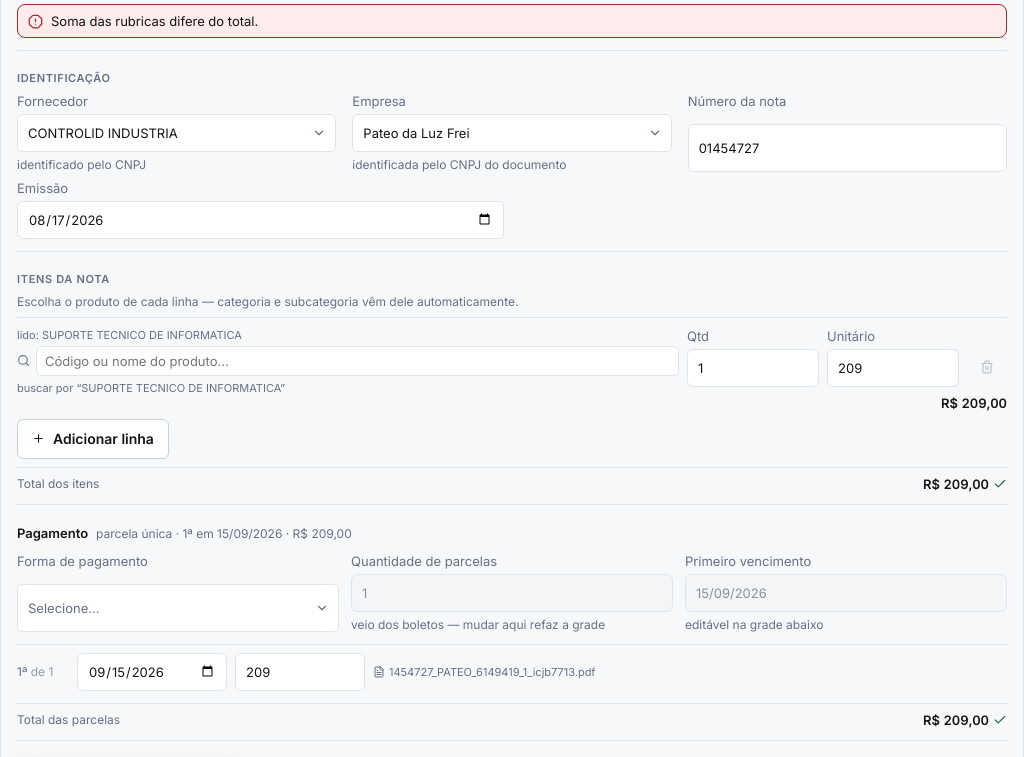
Test: Conferência — travas antes de gravar › um BLOQUEIO trava o lançamento
(page scrolled)
Type "suporte" into the field named "Buscar produto".
click(358, 361); type("suporte")  # box [36,346,679,376]
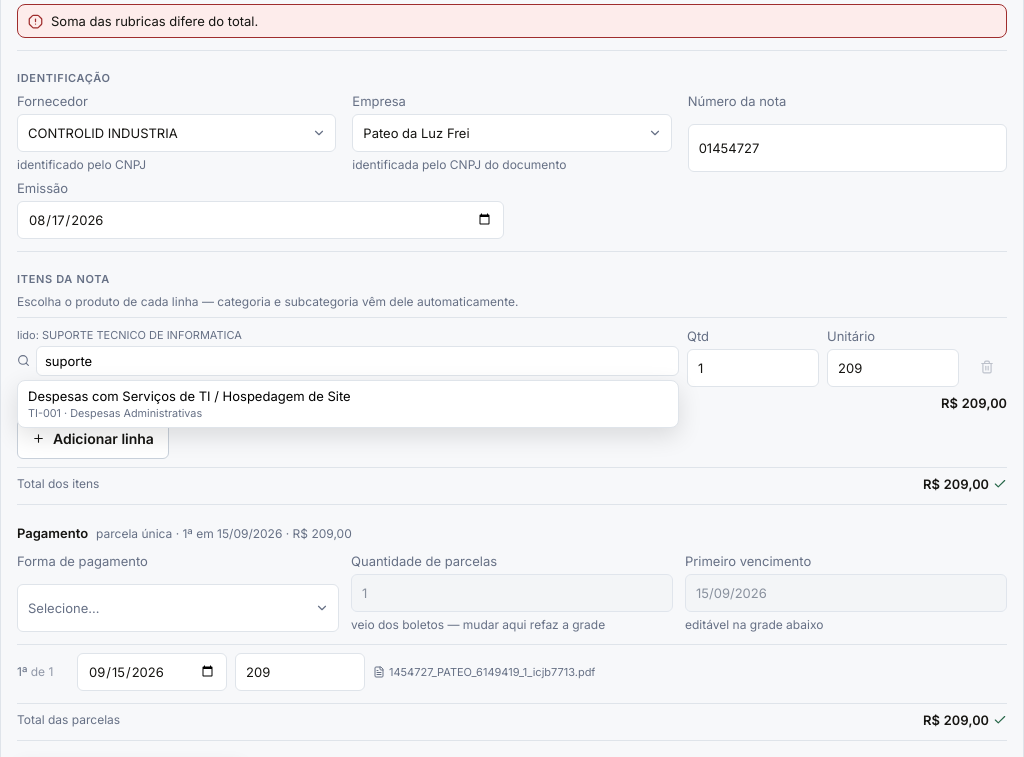
Click the button "Despesas com Serviço".
click(348, 404)  # box [18,381,678,427]
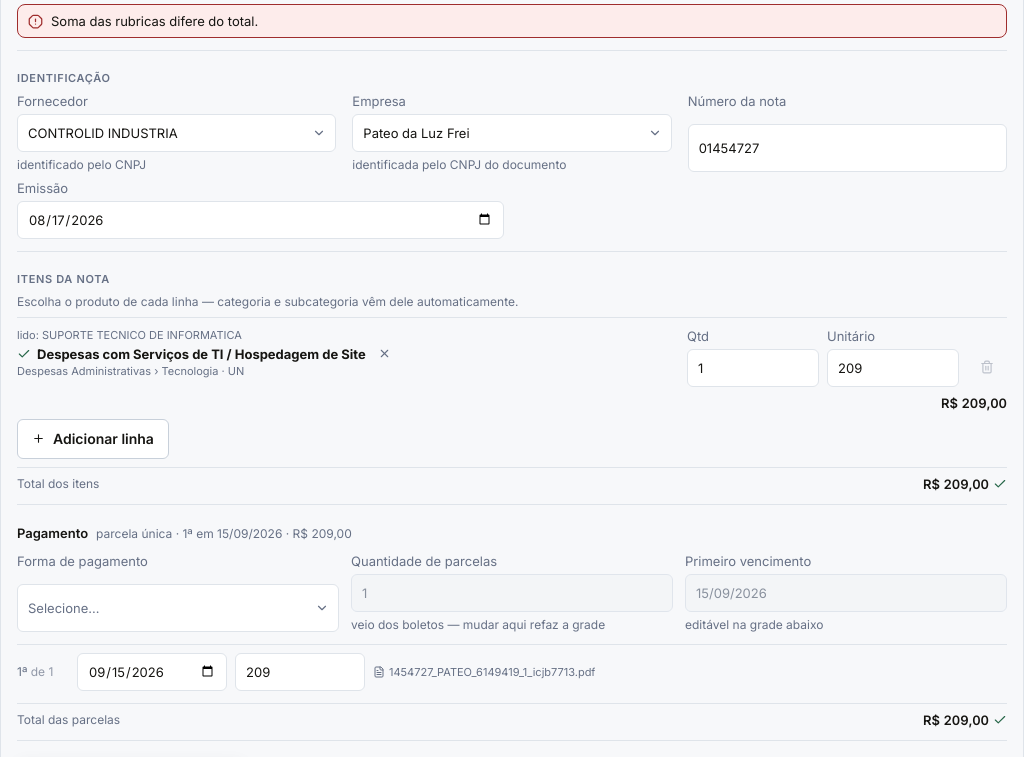
Select "BOLETO" in the dropdown labelled "Forma de pagamento" at (178, 608), box [17,584,339,632]
(page scrolled)
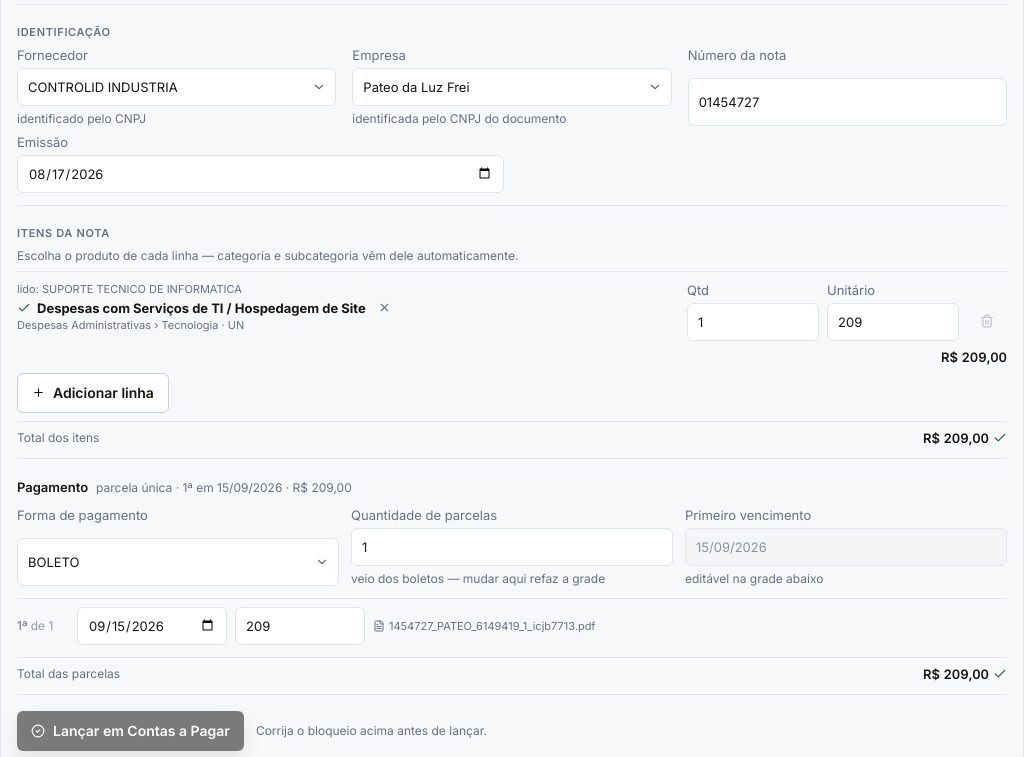
Check: the button "Lançar em Contas a Pagar" is disabled, box [17,711,244,751]
Check: the text "Corrija o bloqueio acima antes de lançar." is shown, box [256,723,487,738]
